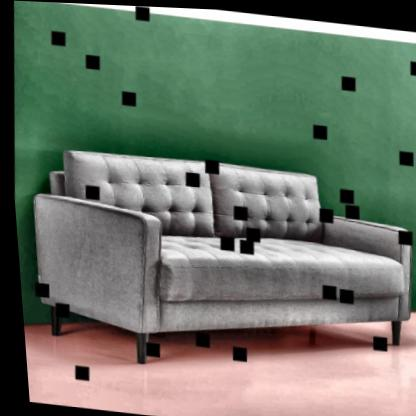Sofa: (25, 130, 416, 352)
